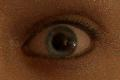eye: (46, 26, 78, 56)
